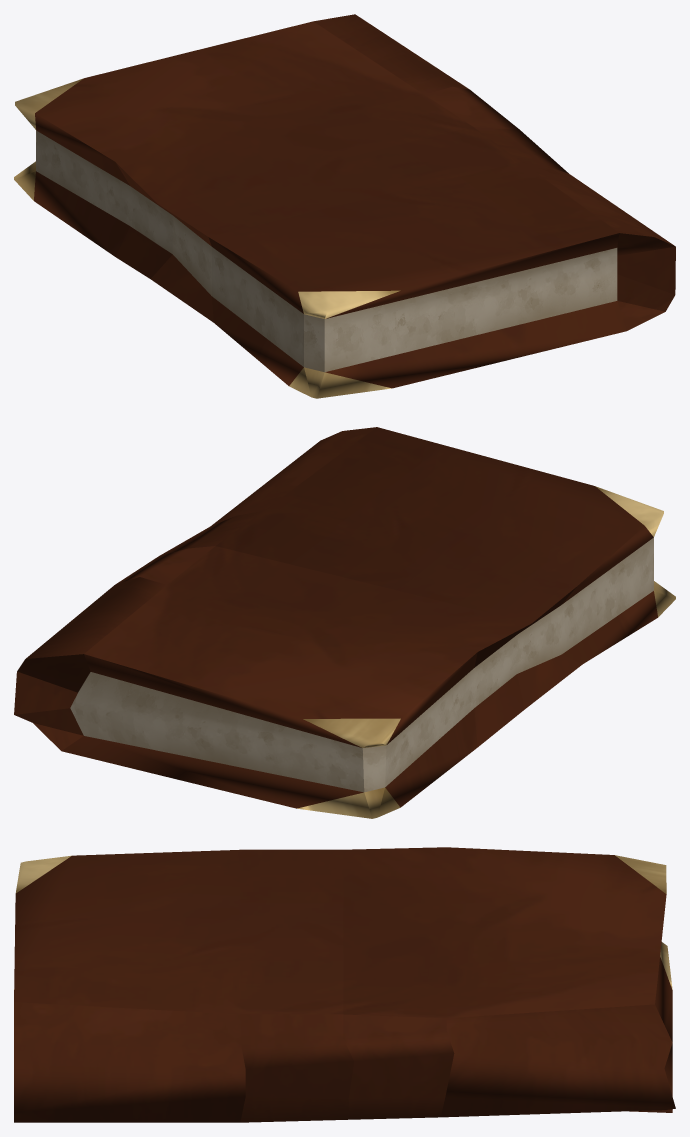
Rendered from Libra_std_Book_1.fbx.
3 renders of one model, top to bottom at view 1: azimuth 30°, elevation 25°; view 2: azimuth 150°, elevation 25°; view 3: azimuth 270°, elevation 25°, orthographic. The views are drawn at different scales.
Parts seen in each view (by area): view 1: std_zaun_book2; view 2: std_zaun_book2; view 3: std_zaun_book2.
Boxes of the visible parts, bbox=[...] form: std_zaun_book2: bbox=[14, 14, 675, 398]; std_zaun_book2: bbox=[14, 427, 675, 818]; std_zaun_book2: bbox=[14, 847, 675, 1122].
Bounding box in the file's own units: 19.78 × 5.15 × 28.85.
